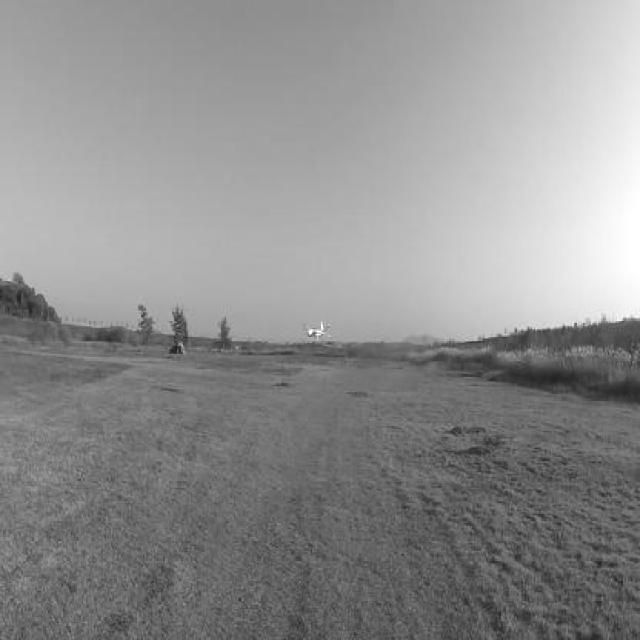iha: (302, 312, 335, 337)
